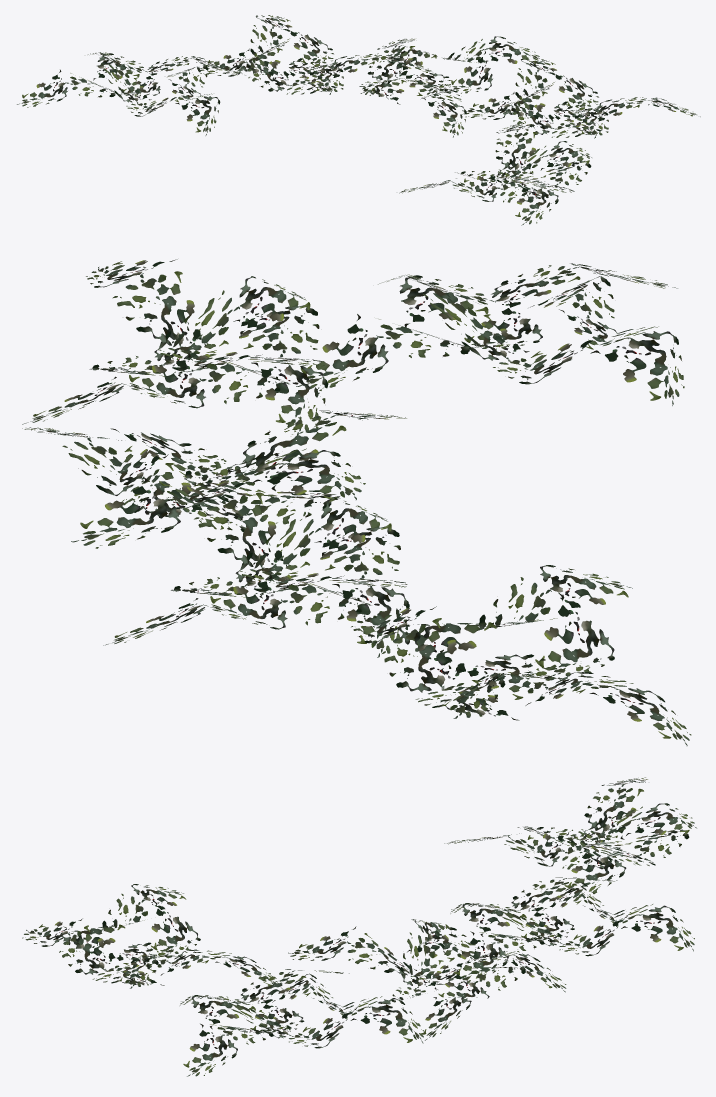
The picture shows the model from 3 angles, top to bottom: view 1: azimuth 30°, elevation 25°; view 2: azimuth 150°, elevation 25°; view 3: azimuth 270°, elevation 25°; orthographic projection. The views are drawn at different scales.
Parts seen in each view (by area): view 1: Grass02; view 2: Grass02; view 3: Grass02.
Boxes of the visible parts, x1,y1,x2,y2 form: Grass02: (17, 15, 700, 225); Grass02: (22, 259, 691, 745); Grass02: (22, 777, 696, 1076).
Bounding box in the file's own units: 506 × 28.92 × 485.
